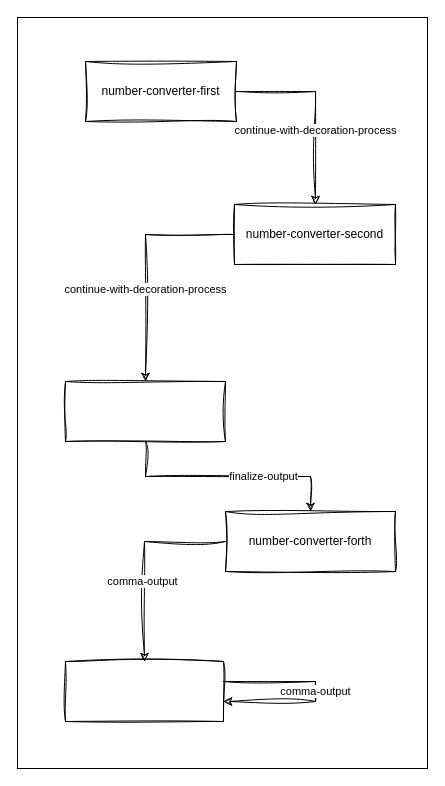
The diagram is 445 pixels wide and 786 high, and some of its shapes have lost their labels. Each missing label, with the box of its shape:
number-converter-fifth: (64, 660, 224, 722)
number-converter-third: (64, 380, 226, 442)
